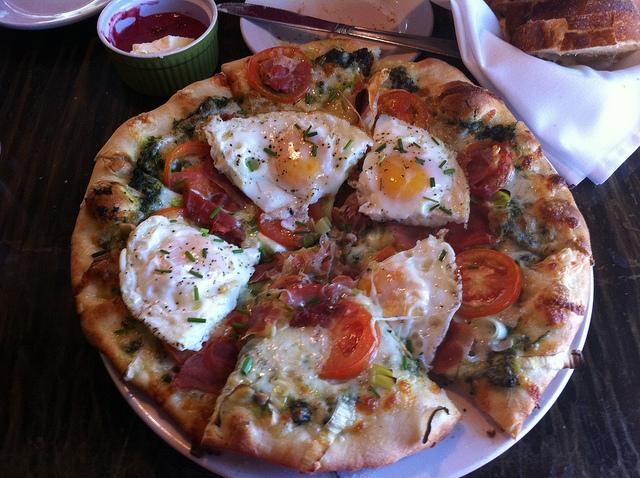tomato: (165, 142, 252, 212), (320, 299, 380, 379), (455, 249, 523, 318), (247, 46, 316, 104), (432, 195, 502, 250), (176, 336, 238, 394), (455, 140, 514, 198), (182, 188, 242, 234), (376, 90, 434, 130), (258, 215, 316, 247), (283, 282, 331, 314)
